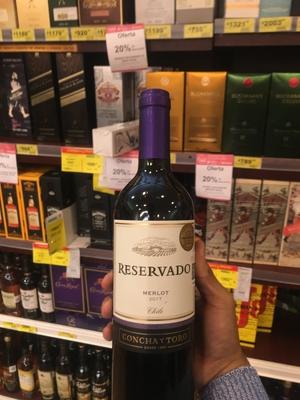reservado merlot: (97, 73, 216, 392)
